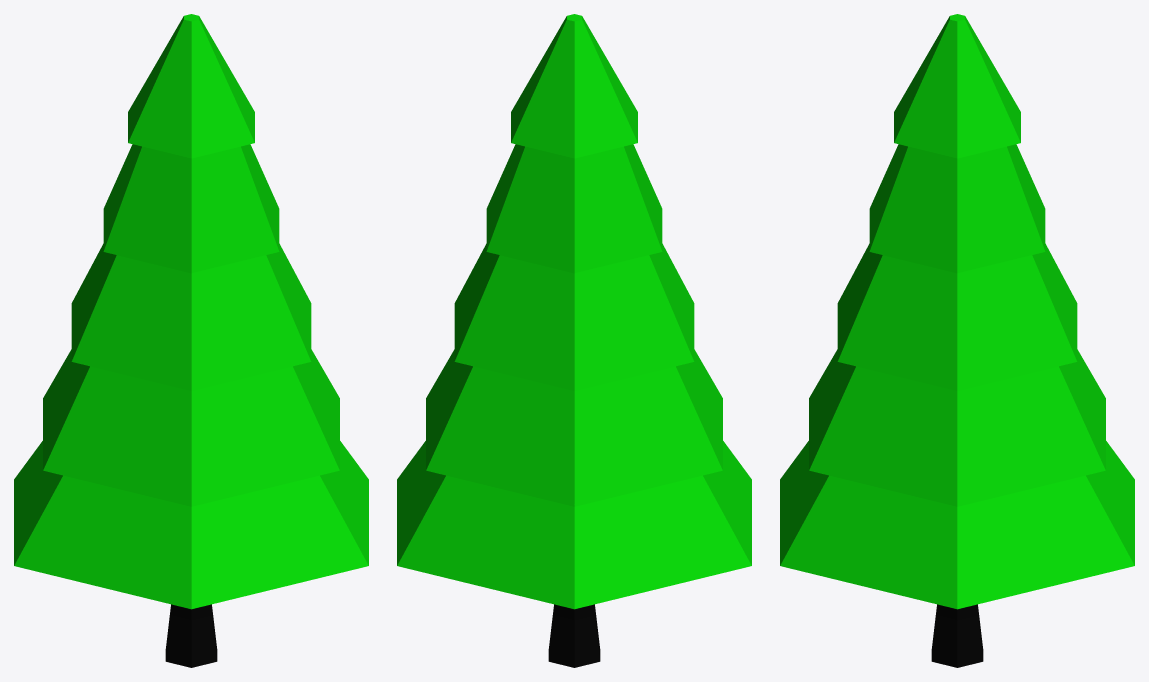
The model's file is Iglaste I.FBX.
3 views of the same model, side by side, from view 1: azimuth 30°, elevation 25°; view 2: azimuth 150°, elevation 25°; view 3: azimuth 270°, elevation 25° (orthographic).
Visible parts, largest first — view 1: Cylinder001, Cylinder002; view 2: Cylinder001, Cylinder002; view 3: Cylinder001, Cylinder002.
Part boxes in pixels (left/top/right/bottom): Cylinder001: left=14, top=14, right=368, bottom=609; Cylinder002: left=165, top=604, right=217, bottom=667; Cylinder001: left=397, top=14, right=751, bottom=609; Cylinder002: left=548, top=604, right=600, bottom=667; Cylinder001: left=780, top=14, right=1134, bottom=609; Cylinder002: left=931, top=604, right=983, bottom=667.
Size of the model in its own units: 65.43 by 112 by 56.66.
